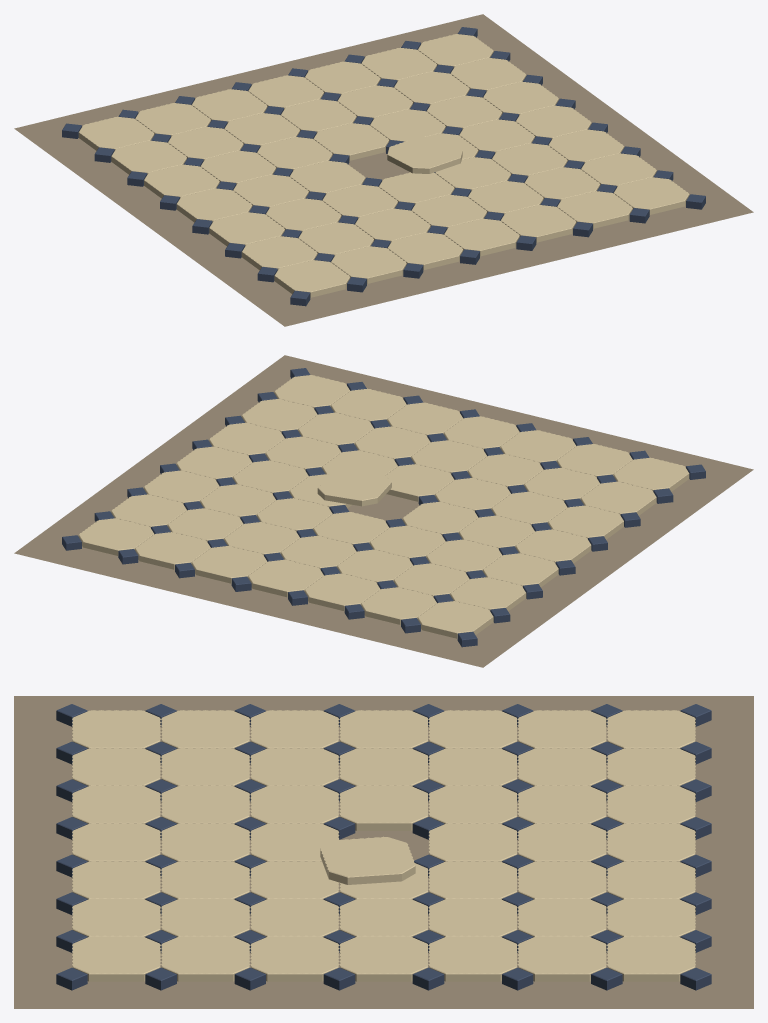
Rendered from terilgan.glb.
The picture shows the model from 3 angles, top to bottom: view 1: azimuth 30°, elevation 25°; view 2: azimuth 150°, elevation 25°; view 3: azimuth 270°, elevation 25°; orthographic projection. The views are drawn at different scales.
Parts seen in each view (by area): view 1: qum, t.024, t, t.031, t.002, t.004, t.005, t.006, t.001, t.003, t.021, t.014 (+37 smaller); view 2: qum, t.024, t.042, t.044, t.046, t.047, t.048, t.043, t.045, t.021, t.028, t.035 (+38 smaller); view 3: qum, t.024, t.006, t.048, t.013, t.041, t.027, t.020, t.034, t.023, t.002, t.044 (+46 smaller).
Boxes of the visible parts, <box> form: qum: <box>14,14,753,326</box>; t.024: <box>387,136,462,173</box>; t: <box>274,260,350,297</box>; t.031: <box>313,123,389,160</box>; t.002: <box>387,232,463,269</box>; t.004: <box>500,205,576,242</box>; t.005: <box>557,191,632,228</box>; t.006: <box>613,177,689,214</box>; t.001: <box>331,246,406,283</box>; t.003: <box>444,218,519,256</box>; t.021: <box>176,188,252,222</box>; t.014: <box>209,212,284,246</box>; qum: <box>14,355,753,667</box>; t.024: <box>317,469,391,506</box>; t.042: <box>417,601,493,638</box>; t.044: <box>304,573,380,610</box>; t.046: <box>191,546,267,583</box>; t.047: <box>135,532,210,569</box>; t.048: <box>78,518,154,555</box>; t.043: <box>361,587,436,624</box>; t.045: <box>248,559,323,597</box>; t.021: <box>515,529,591,563</box>; t.028: <box>483,553,558,587</box>; t.035: <box>450,577,526,611</box>; qum: <box>14,696,753,1008</box>; t.024: <box>320,836,415,884</box>; t.006: <box>72,936,160,981</box>; t.048: <box>607,936,695,981</box>; t.013: <box>161,936,249,981</box>; t.041: <box>518,936,606,981</box>; t.027: <box>339,936,428,981</box>; t.020: <box>250,936,339,981</box>; t.034: <box>428,936,517,981</box>; t.023: <box>339,785,428,830</box>; t.002: <box>72,785,160,823</box>; t.044: <box>607,785,695,823</box>.
Size of the model in its own units: 1.66 by 0.047 by 1.66.
